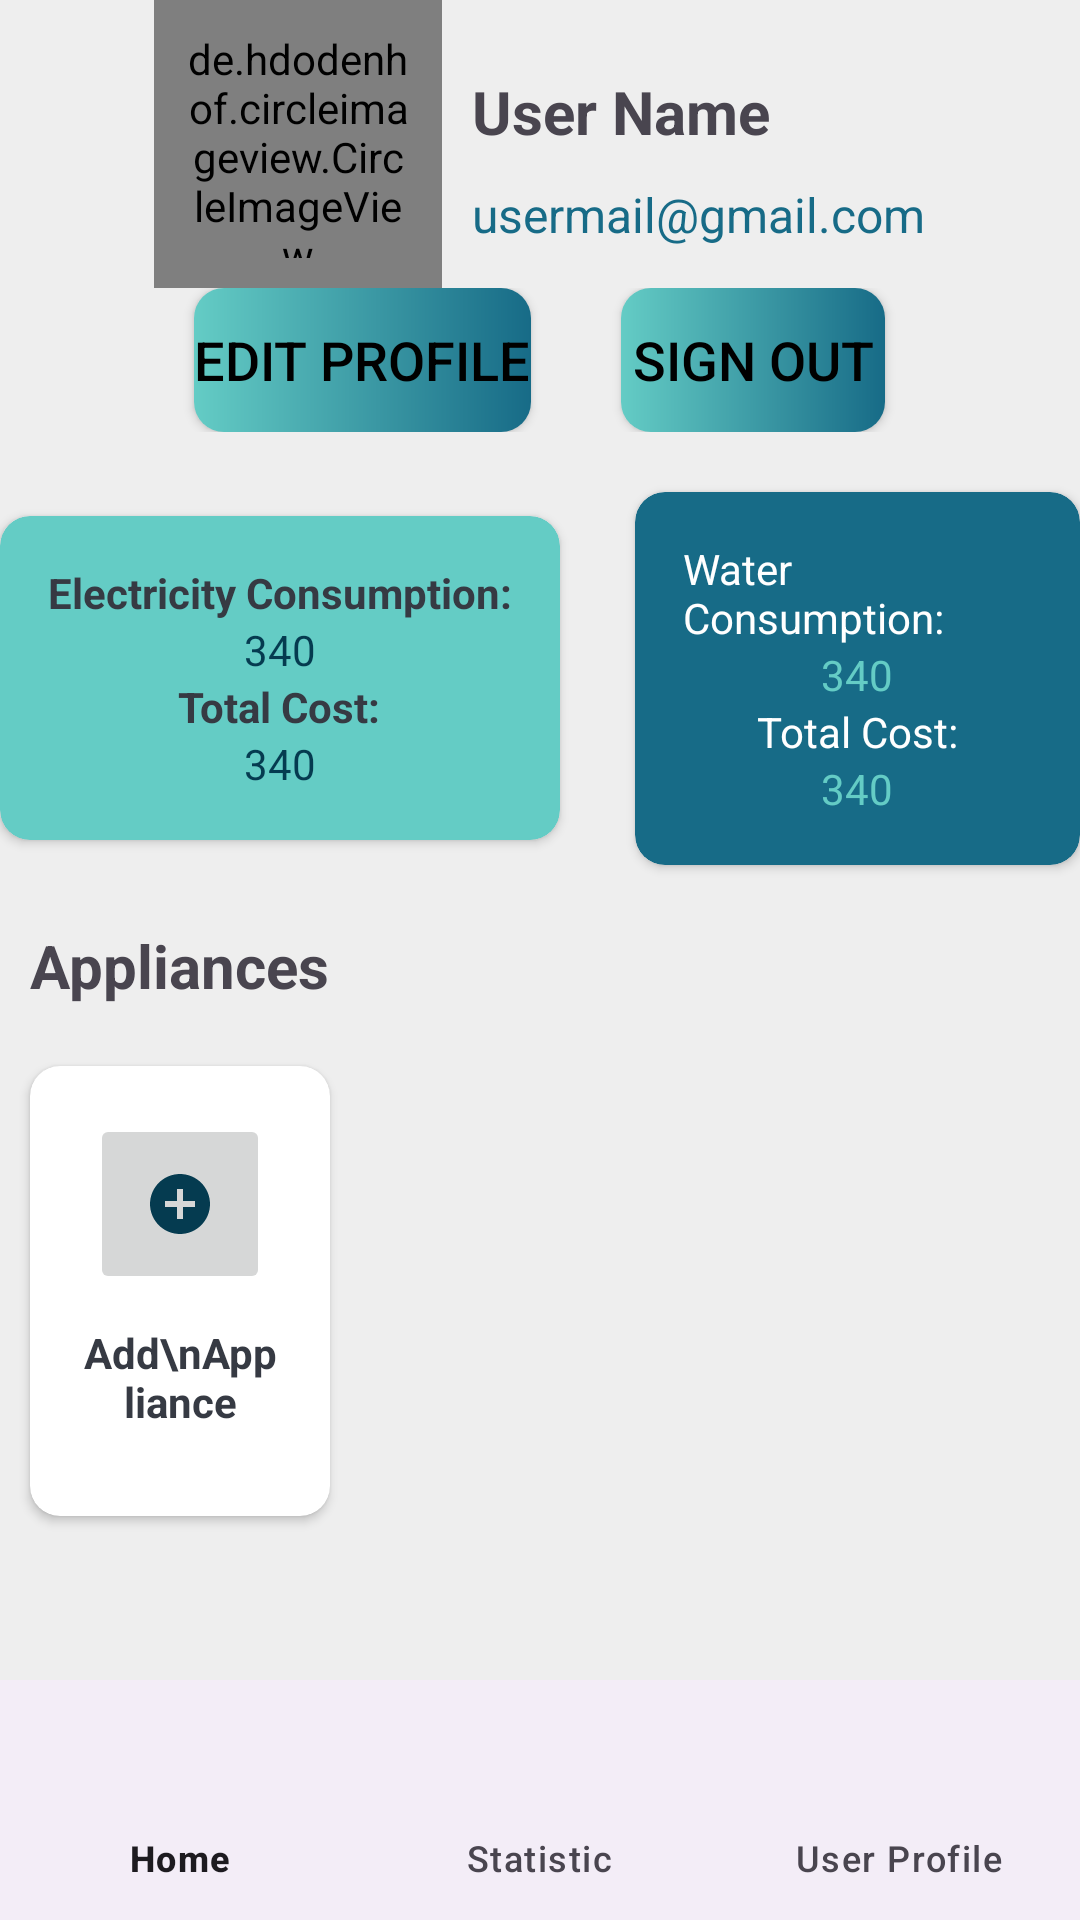

Icons on this 1080px×1920px Android screen, each with its box as (x1, y1, x2, y2):
add circle: (102, 1132, 258, 1276)
